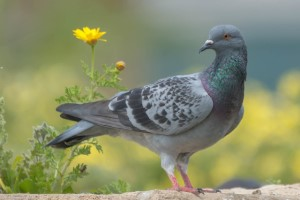pigeon: (45, 22, 250, 198)
